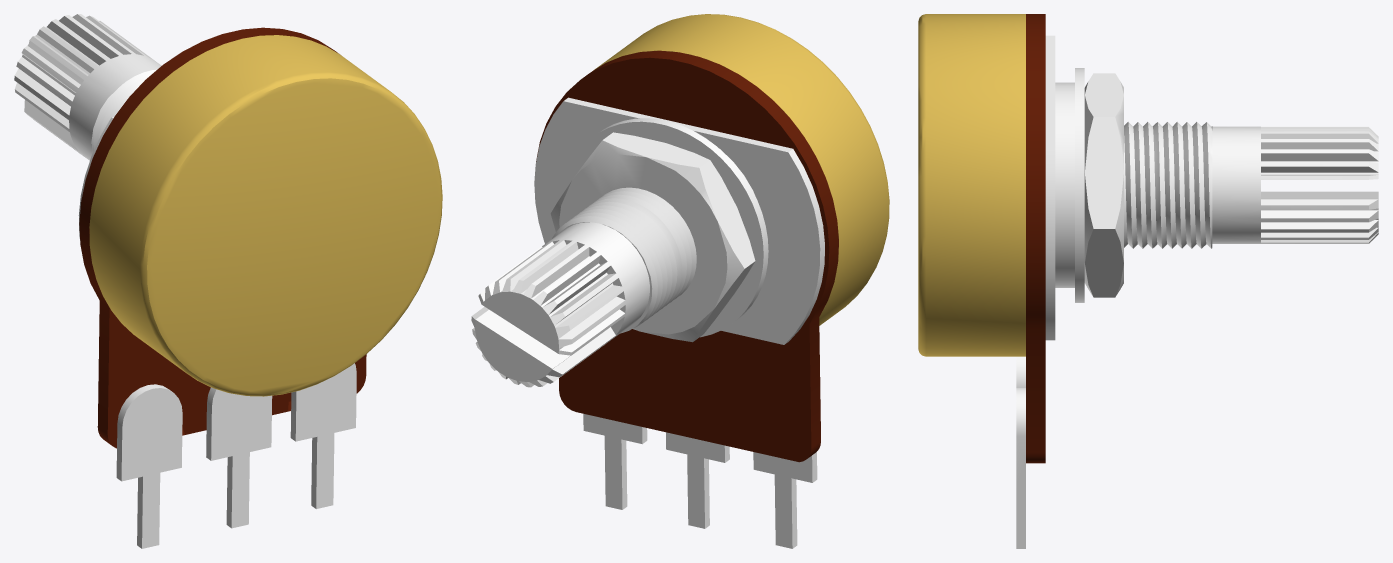
The model's file is potentiometer.glb.
3 views of the same model, side by side, from view 1: azimuth 30°, elevation 25°; view 2: azimuth 150°, elevation 25°; view 3: azimuth 270°, elevation 25° (orthographic). The views are drawn at different scales.
Visible parts, largest first — view 1: latao_002-material, Metal_010-material, Metal_Fosco_002-material, Material_014-material; view 2: Metal_Fosco_002-material, Material_014-material, latao_002-material, Metal_010-material; view 3: Metal_Fosco_002-material, latao_002-material, Material_014-material, Metal_010-material.
Boxes of the visible parts, x1,y1,x2,y2 form: latao_002-material: [89, 35, 442, 396]; Metal_010-material: [116, 363, 356, 548]; Metal_Fosco_002-material: [14, 14, 161, 240]; Material_014-material: [79, 27, 366, 448]; Metal_Fosco_002-material: [471, 97, 824, 387]; Material_014-material: [536, 50, 838, 462]; latao_002-material: [593, 14, 889, 325]; Metal_010-material: [583, 413, 817, 548]; Metal_Fosco_002-material: [1045, 35, 1378, 340]; latao_002-material: [918, 14, 1025, 356]; Material_014-material: [1026, 14, 1045, 463]; Metal_010-material: [1016, 356, 1025, 548].
Bounding box in the file's own units: 0.0175 × 0.0268 × 0.0235.
